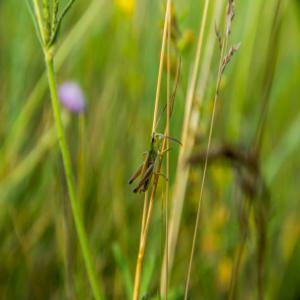locust: (118, 103, 192, 202)
